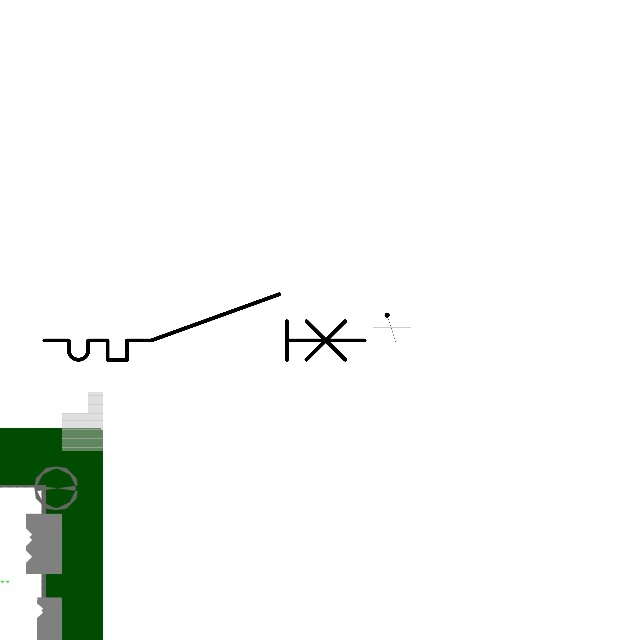interruptor_termomagnetico: (36, 286, 372, 368)
